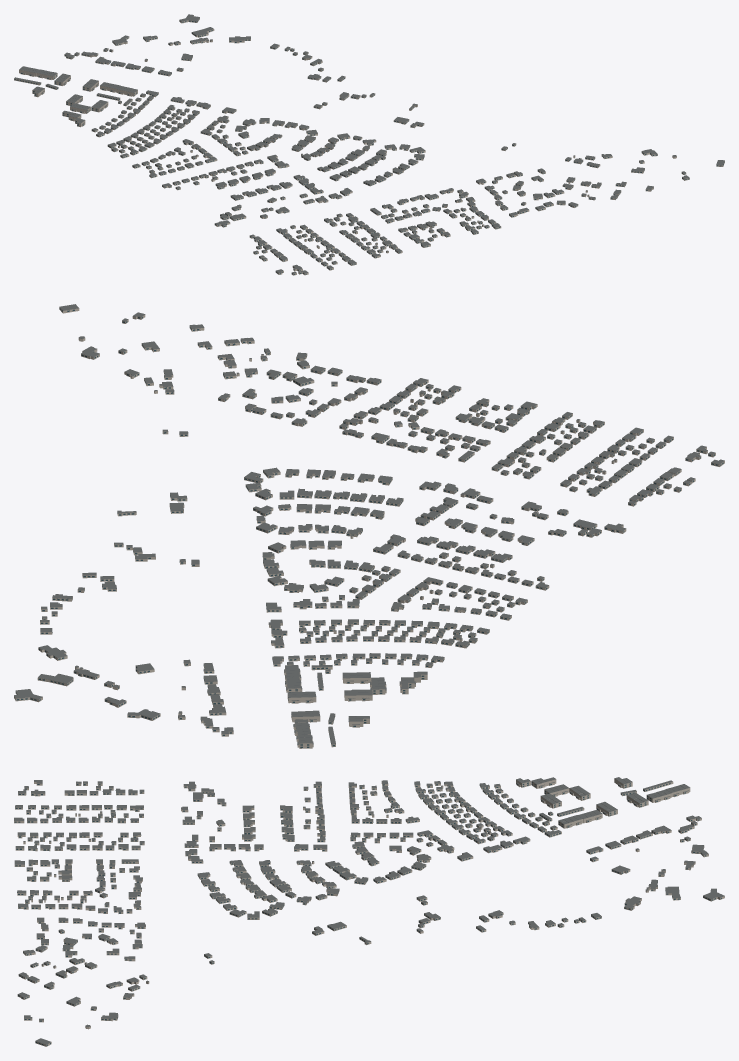
3 views of the same model, one above another, from view 1: azimuth 30°, elevation 25°; view 2: azimuth 150°, elevation 25°; view 3: azimuth 270°, elevation 25° (orthographic). The views are drawn at different scales.
Visible parts, largest first — view 1: Buildings (0, -4) Roof membrane, Buildings (0, -4) Masonry brick, Buildings (0, -4) Architectural tinted glass, Buildings (0, -4) Metal coping; view 2: Buildings (0, -4) Roof membrane, Buildings (0, -4) Masonry brick, Buildings (0, -4) Architectural tinted glass, Buildings (0, -4) Metal coping; view 3: Buildings (0, -4) Roof membrane, Buildings (0, -4) Masonry brick, Buildings (0, -4) Architectural tinted glass, Buildings (0, -4) Metal coping.
Part boxes in pixels (bbox=[...]): Buildings (0, -4) Roof membrane: bbox=[14, 14, 724, 273]; Buildings (0, -4) Masonry brick: bbox=[14, 15, 724, 275]; Buildings (0, -4) Architectural tinted glass: bbox=[14, 18, 724, 274]; Buildings (0, -4) Metal coping: bbox=[15, 14, 722, 267]; Buildings (0, -4) Roof membrane: bbox=[14, 304, 724, 744]; Buildings (0, -4) Masonry brick: bbox=[14, 307, 724, 748]; Buildings (0, -4) Architectural tinted glass: bbox=[14, 308, 723, 747]; Buildings (0, -4) Metal coping: bbox=[14, 304, 721, 744]; Buildings (0, -4) Roof membrane: bbox=[14, 777, 724, 1044]; Buildings (0, -4) Masonry brick: bbox=[14, 778, 724, 1046]; Buildings (0, -4) Architectural tinted glass: bbox=[14, 782, 721, 1045]; Buildings (0, -4) Metal coping: bbox=[15, 777, 721, 1043].
Bounding box in the file's own units: 884 × 11.61 × 1005.
